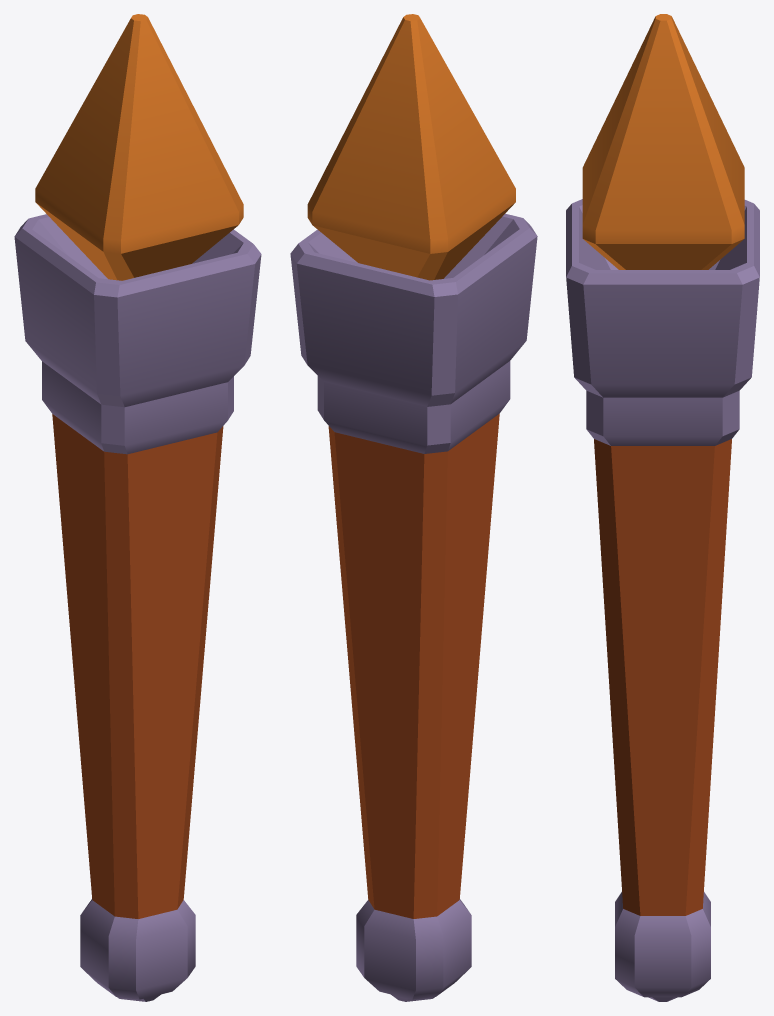
The model's file is torch.fbx.
The picture shows the model from 3 angles, left to right: view 1: azimuth 30°, elevation 25°; view 2: azimuth 150°, elevation 25°; view 3: azimuth 270°, elevation 25°; orthographic projection.
Parts seen in each view (by area): view 1: MSH_Torch, MSH_Fire; view 2: MSH_Torch, MSH_Fire; view 3: MSH_Torch, MSH_Fire.
Boxes of the visible parts, x1,y1,x2,y2 form: MSH_Torch: (14,214,261,1001); MSH_Fire: (35,14,243,280); MSH_Torch: (290,213,537,1001); MSH_Fire: (307,14,515,280); MSH_Torch: (566,199,759,1001); MSH_Fire: (582,14,744,269).
Size of the model in its own units: 5.35 by 29.72 by 5.35.
